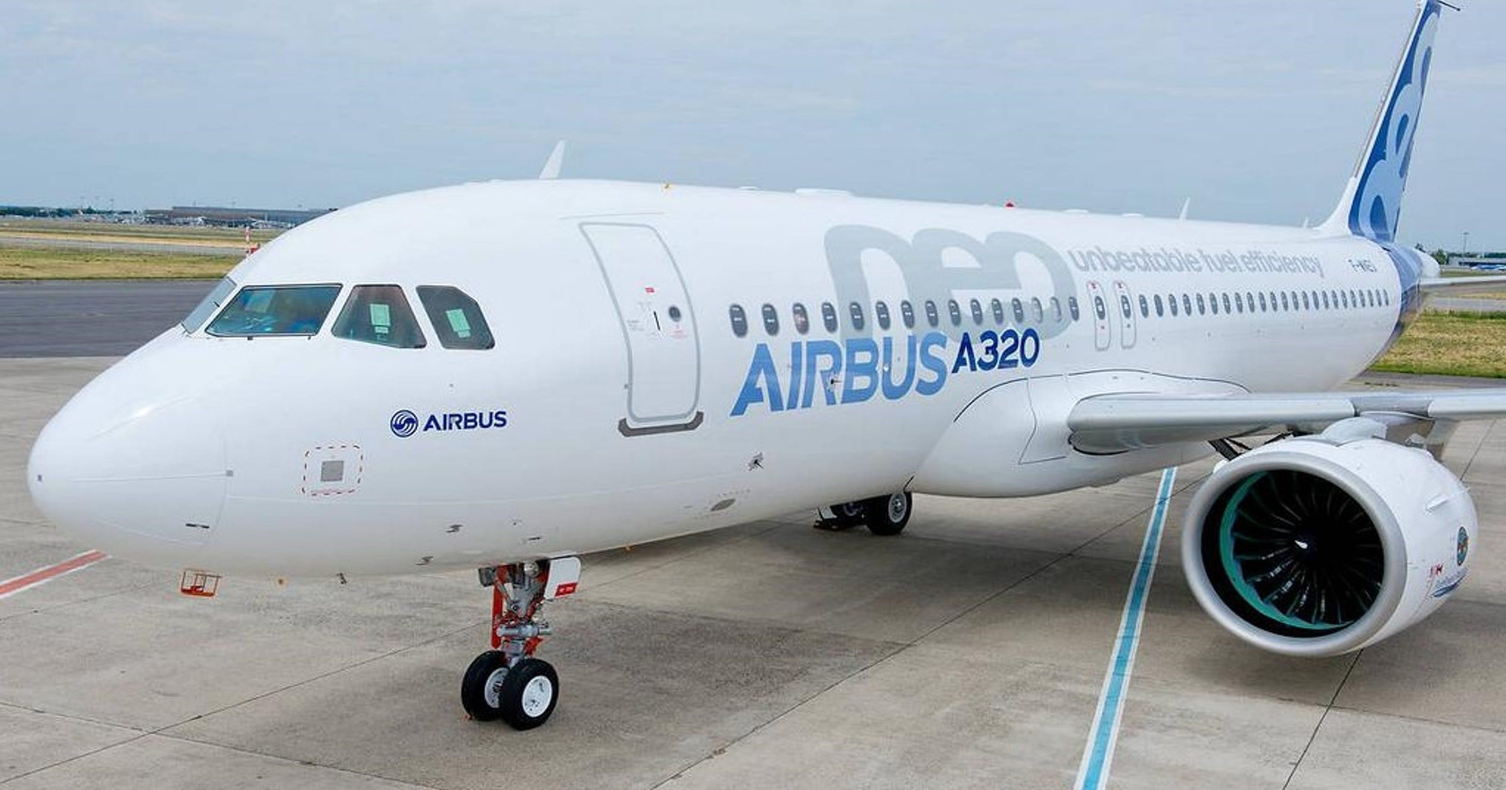aircraft: (105, 5, 1502, 664), (27, 146, 1499, 714)
